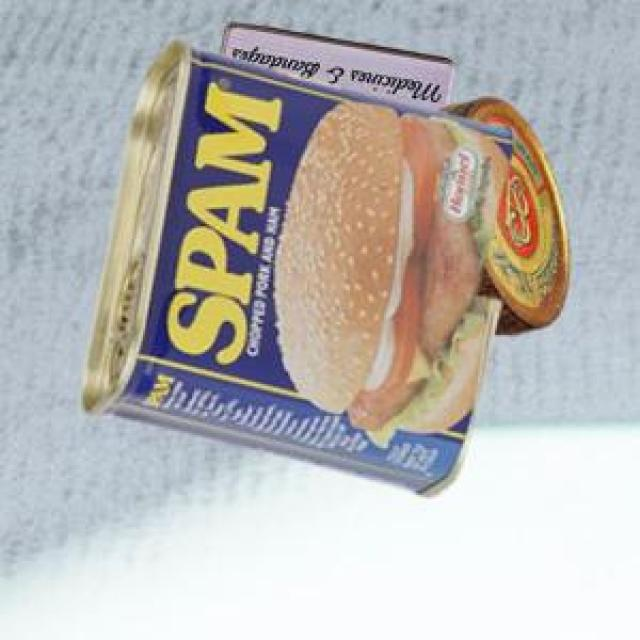logam: (80, 37, 511, 494), (436, 95, 566, 332), (219, 20, 451, 110)
